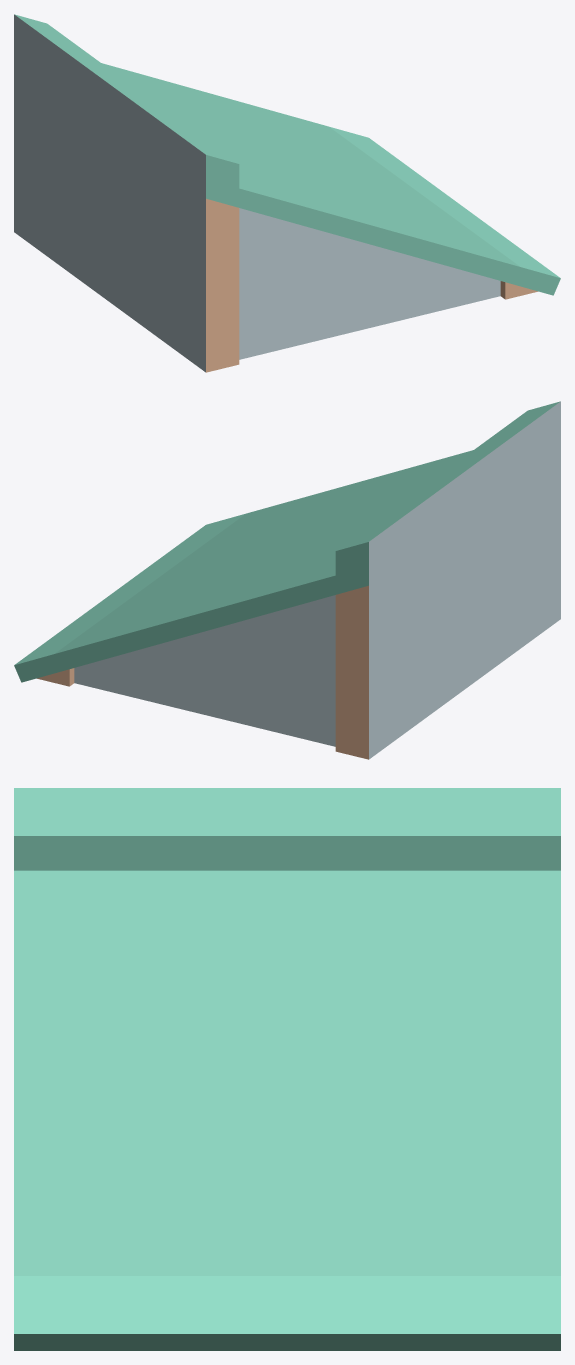
The model's file is roof.glb.
The picture shows the model from 3 angles, top to bottom: view 1: azimuth 30°, elevation 25°; view 2: azimuth 150°, elevation 25°; view 3: azimuth 270°, elevation 25°; orthographic projection. The views are drawn at different scales.
Visible parts, largest first — view 1: roof; view 2: roof; view 3: roof.
Part boxes in pixels (x1,y1,x2,y2): roof: (14, 14, 560, 372); roof: (14, 401, 560, 759); roof: (14, 788, 560, 1350).
Bounding box in the file's own units: 1.07 × 0.6483 × 1.
